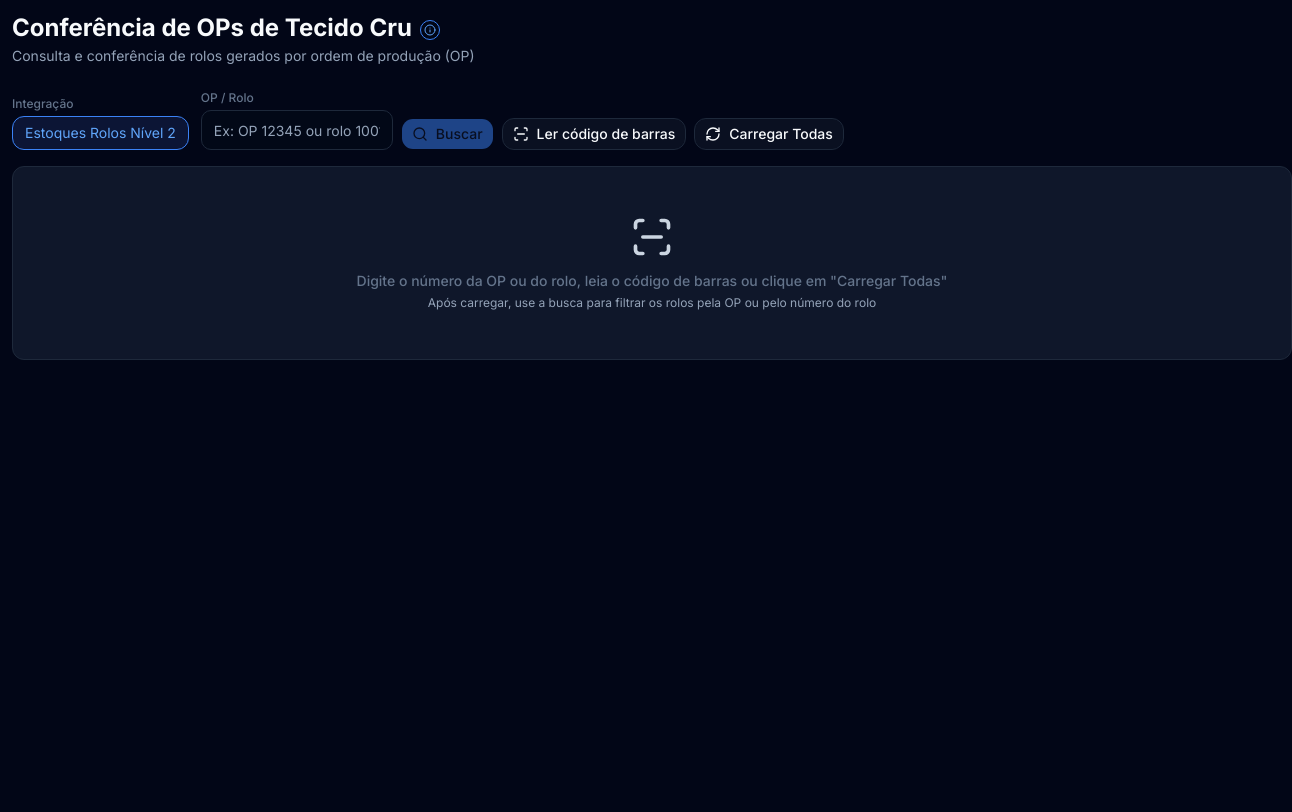
Test case: ConferenciaOpTecidoCruPage › carrega os rolos ao clicar em Carregar Todas e agrupa por OP
Check: the button "Estoques Rolos Nível 2" is shown, box [12, 116, 189, 150]
What coordinates should you click on to do the following:
click the button "Carregar Todas"
I would click on:
 (769, 134)
Its box is [694, 118, 844, 150].
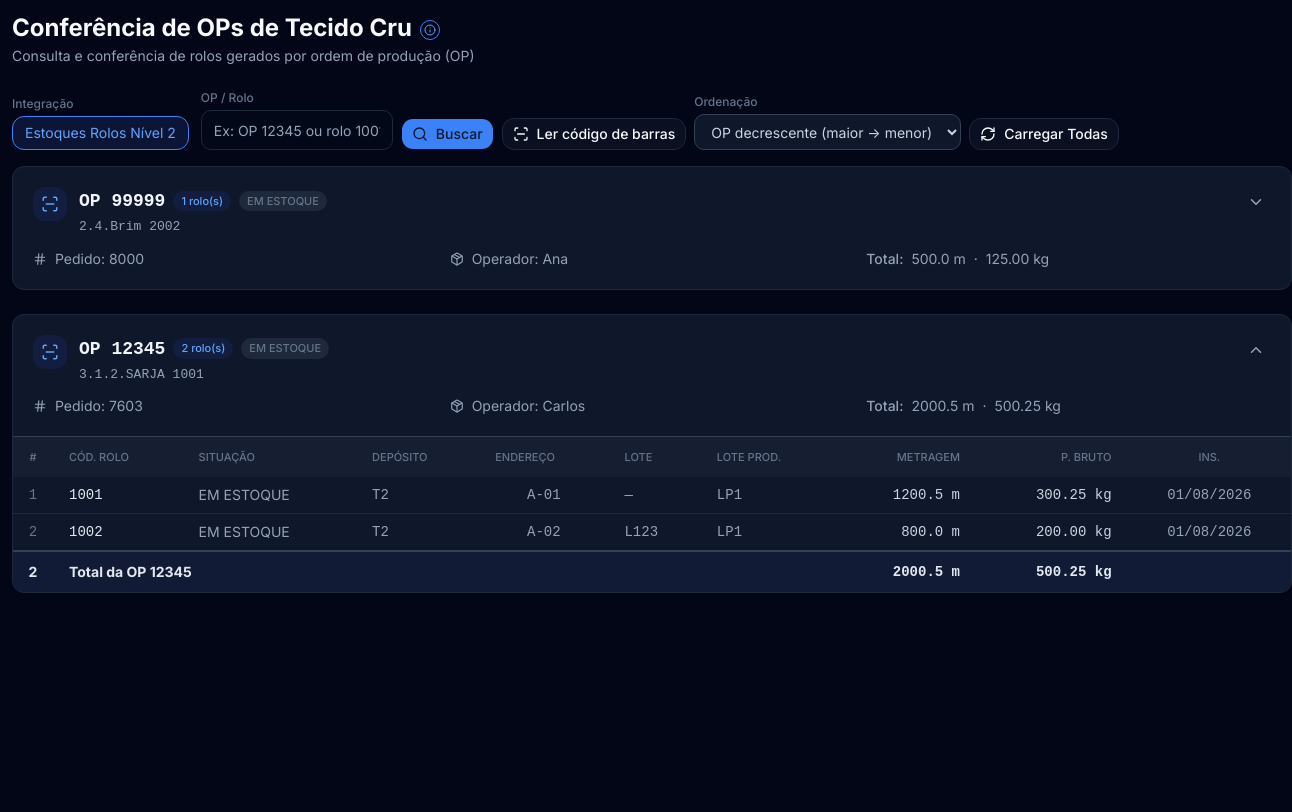
Check: the heading "OP 12345" is shown, box [79, 334, 165, 362]
Check: the heading "OP 99999" is shown, box [79, 187, 165, 215]
Check: the text "2 rolo(s)" is shown, box [173, 338, 233, 359]
